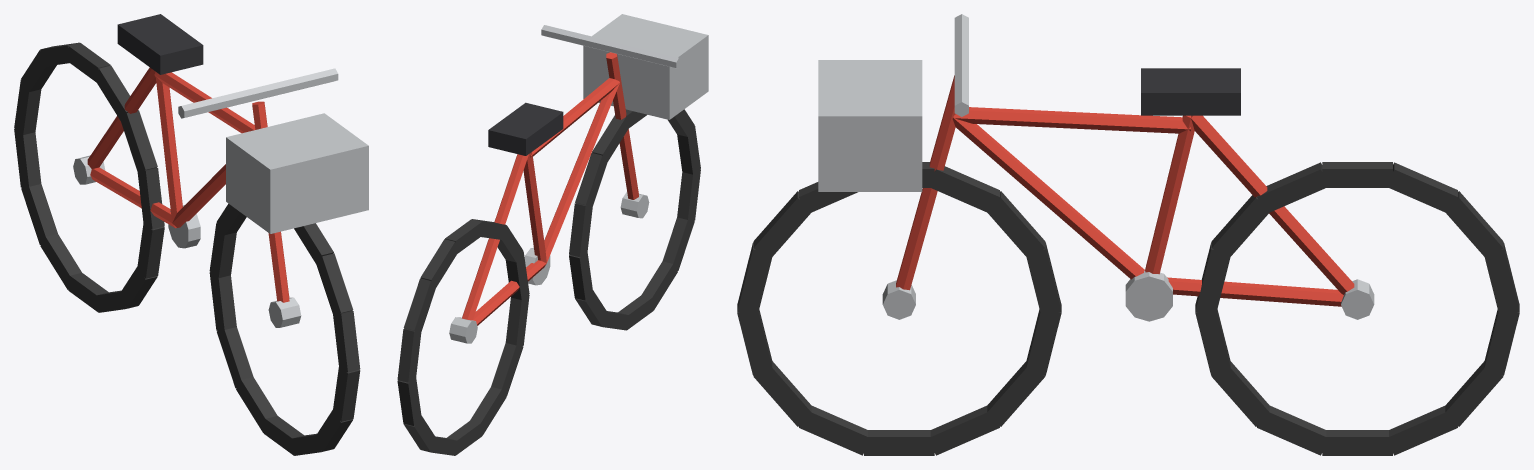
Rendered from jitensha.glb.
The picture shows the model from 3 angles, left to right: view 1: azimuth 30°, elevation 25°; view 2: azimuth 150°, elevation 25°; view 3: azimuth 270°, elevation 25°; orthographic projection. The views are drawn at different scales.
Parts seen in each view (by area): view 1: jitensha; view 2: jitensha; view 3: jitensha.
Boxes of the visible parts, x1,y1,x2,y2 form: jitensha: (14, 14, 368, 455); jitensha: (397, 14, 708, 455); jitensha: (737, 14, 1519, 455).
Bounding box in the file's own units: 0.5 × 1.05 × 1.88.
